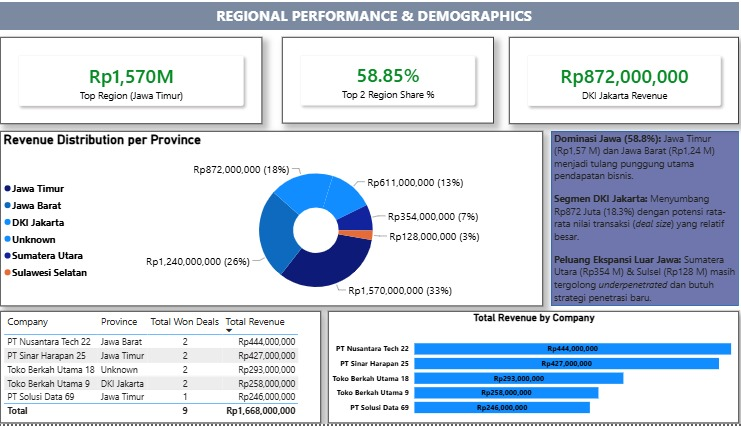

What the dashboard file says about the page in this screenshot:
{"tool":"powerbi","page":{"name":"Regional Contribution","canvas":[1280,720],"ordinal":3},"visuals":[{"type":"shape","box":[935,231.7,313.3,291.7],"z":0},{"type":"shape","box":[16.7,16.7,1231.7,46.7],"z":1000},{"type":"textbox","box":[328.3,16.7,623.3,55],"z":2000},{"type":"cardVisual","title":"asdsa","fields":{"Data":["Measure.Total Revenue"]},"box":[16.7,75,436.7,145],"z":3000},{"type":"cardVisual","fields":{"Data":["Measure.Top 2 Region Share %"]},"box":[486.7,75,352.9,144.3],"z":4000},{"type":"cardVisual","fields":{"Data":["Measure.Total Revenue"]},"box":[865,75,383.3,145],"z":5000},{"type":"donutChart","title":"Revenue Distribution per Province","fields":{"Category":["v_clean_customers.clean_province"],"Y":["Measure.Total Revenue"]},"box":[16.7,231.7,905,291.7],"z":6000},{"type":"textbox","box":[935,223.3,313.3,300],"z":7000},{"type":"tableEx","fields":{"Values":["v_clean_customers.company_name","v_clean_customers.clean_province","Measure.Total Won Deals","Measure.Total Revenue"]},"box":[16.7,531.7,535,186.7],"z":8000},{"type":"clusteredBarChart","fields":{"Category":["v_clean_customers.Company"],"Y":["Measure.Total Revenue"]},"box":[563.3,531.7,685,186.7],"z":9000}]}

Visuals, with their boxes in screenshot pixels (x1, y1, x2, y2), scaled from the page's 1280x720 canvas onto the 741x426 screenshot:
shape: <bbox>541, 137, 723, 310</bbox>
shape: <bbox>10, 10, 723, 38</bbox>
textbox: <bbox>190, 10, 551, 42</bbox>
"asdsa" cardVisual: <bbox>10, 44, 262, 130</bbox>
cardVisual - Measure.Top 2 Region Share %: <bbox>282, 44, 486, 130</bbox>
cardVisual - Measure.Total Revenue: <bbox>501, 44, 723, 130</bbox>
"Revenue Distribution per Province" donutChart: <bbox>10, 137, 534, 310</bbox>
textbox: <bbox>541, 132, 723, 310</bbox>
tableEx - v_clean_customers.company_name x v_clean_customers.clean_province: <bbox>10, 315, 319, 425</bbox>
clusteredBarChart - v_clean_customers.Company x Measure.Total Revenue: <bbox>326, 315, 723, 425</bbox>
